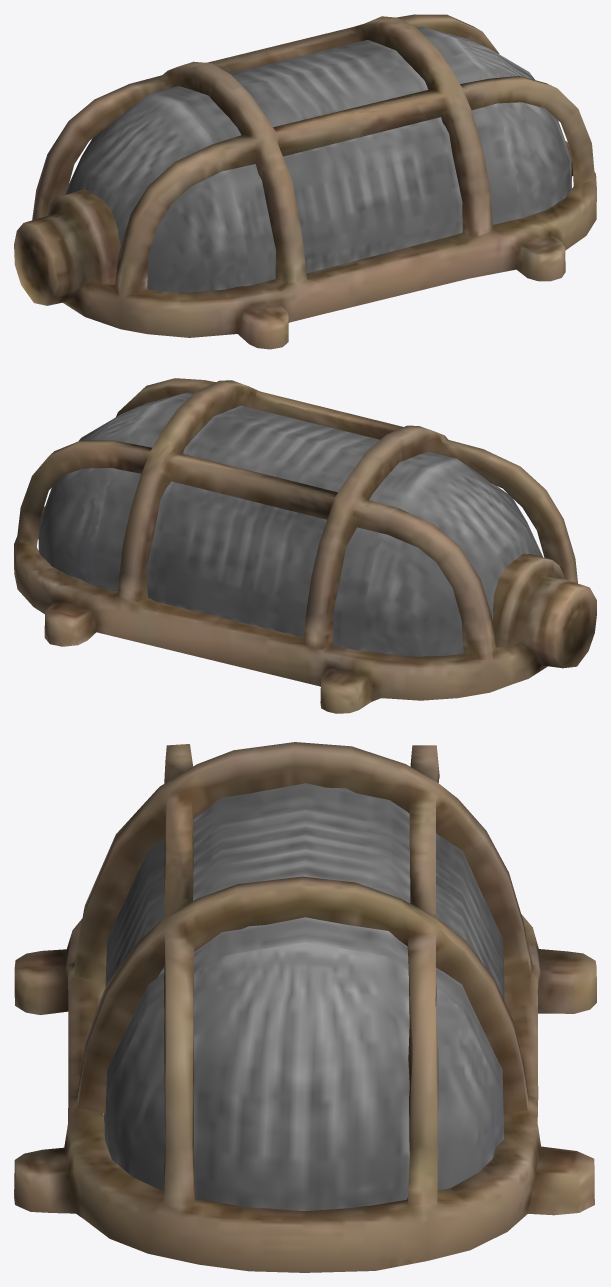
Rendered from walllight_on.glb.
3 views of the same model, one above another, from view 1: azimuth 30°, elevation 25°; view 2: azimuth 150°, elevation 25°; view 3: azimuth 270°, elevation 25° (orthographic). The views are drawn at different scales.
Visible parts, largest first — view 1: wallLight_LOD0; view 2: wallLight_LOD0; view 3: wallLight_LOD0.
Part boxes in pixels (x1=…): wallLight_LOD0: x1=14, y1=14, x2=596, y2=349; wallLight_LOD0: x1=14, y1=378, x2=596, y2=713; wallLight_LOD0: x1=14, y1=742, x2=596, y2=1272.
Size of the model in its own units: 0.3458 by 0.119 by 0.2204.
1 material, 1 textured.
